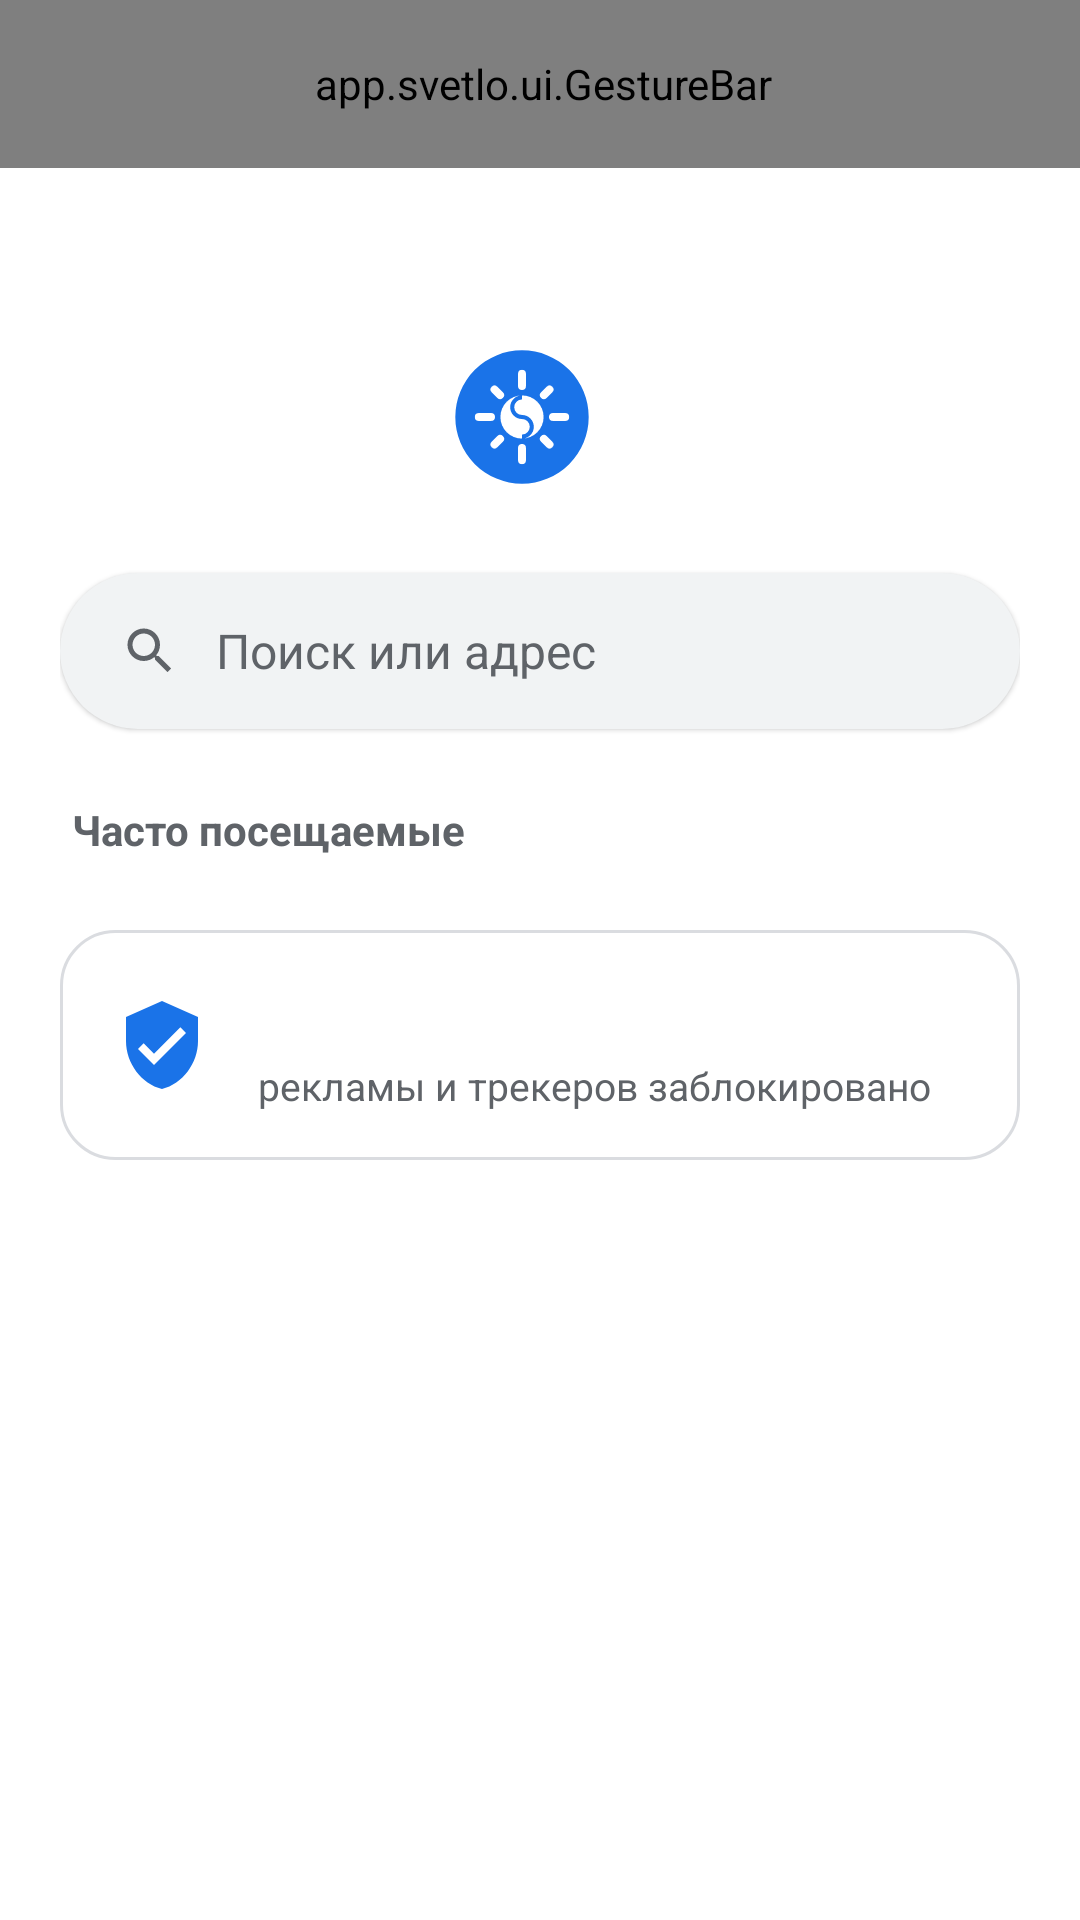

Screen size 1080*1920. Icon name, then its box in pixels as bbox=(x1, y1, x2, y2):
shield: bbox=(126, 1001, 198, 1089)
